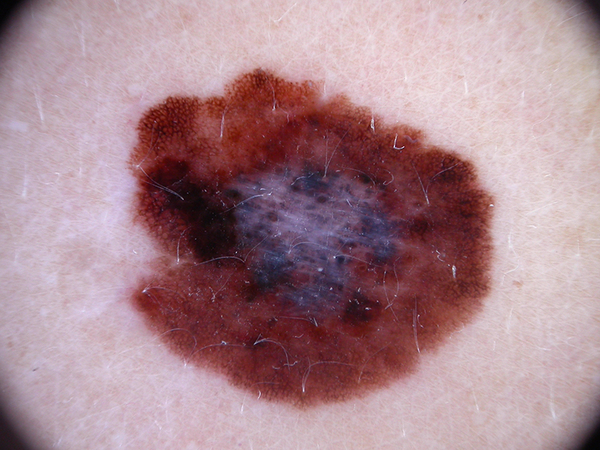Detected Lesion: (120, 60, 507, 411)
